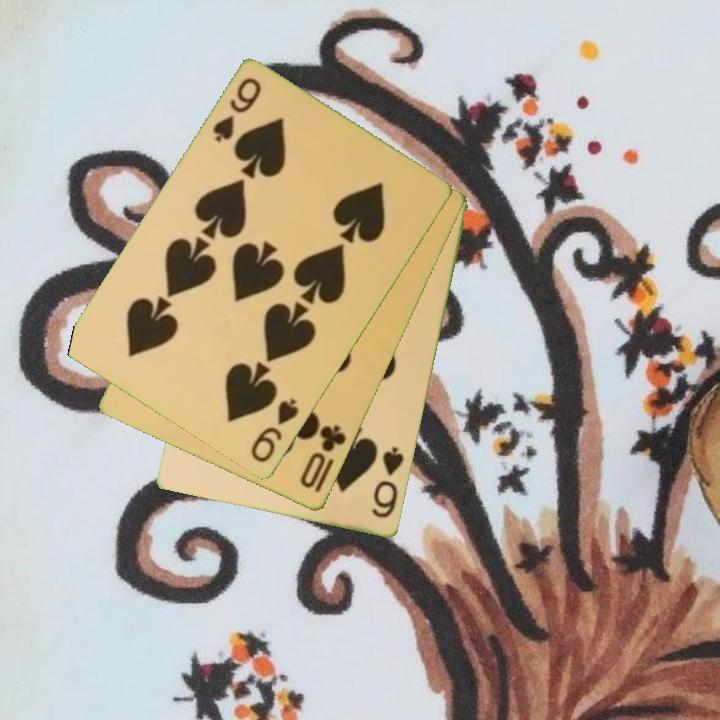10c: (296, 422, 350, 492)
6s: (368, 444, 407, 522)
9s: (209, 74, 265, 147), (247, 395, 302, 466)
